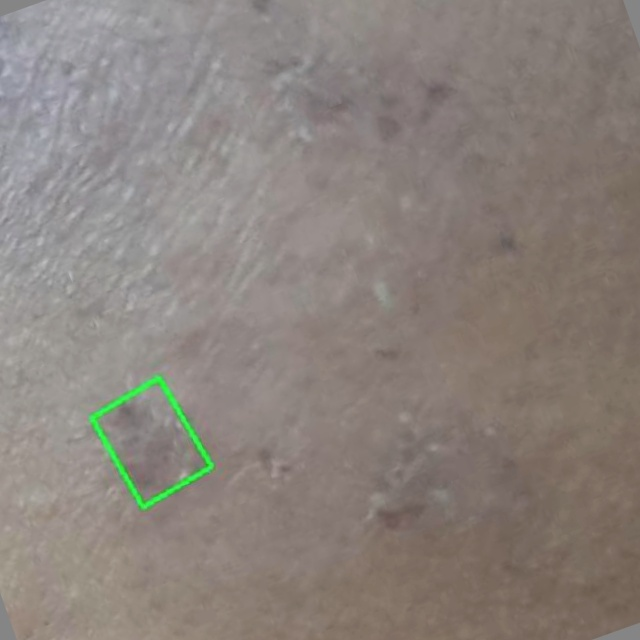Tinea Corporis: (90, 378, 211, 507)
